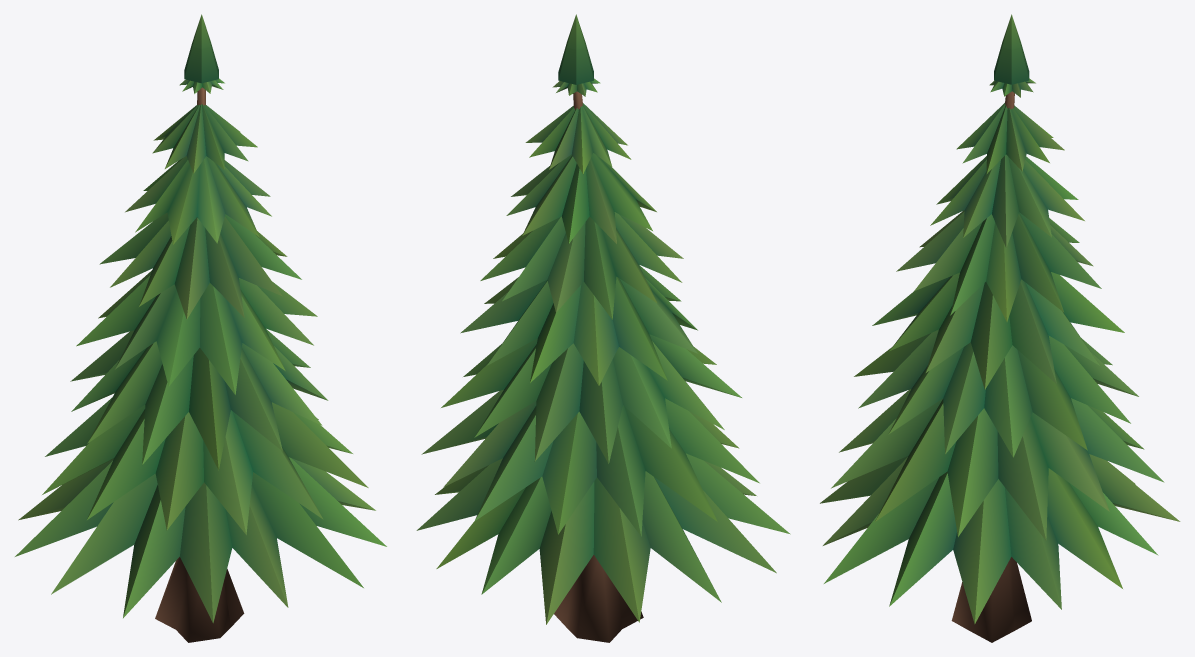
File: f_pine5.glb
3 renders of one model, left to right at view 1: azimuth 30°, elevation 25°; view 2: azimuth 150°, elevation 25°; view 3: azimuth 270°, elevation 25°, orthographic. The views are drawn at different scales.
Visible parts, largest first — view 1: pine5; view 2: pine5; view 3: pine5.
Part boxes in pixels (x1,y1,x2,y2): pine5: [15, 14, 386, 642]; pine5: [416, 14, 790, 642]; pine5: [820, 14, 1180, 642].
Bounding box in the file's own units: 5.68 × 9.86 × 5.28.
